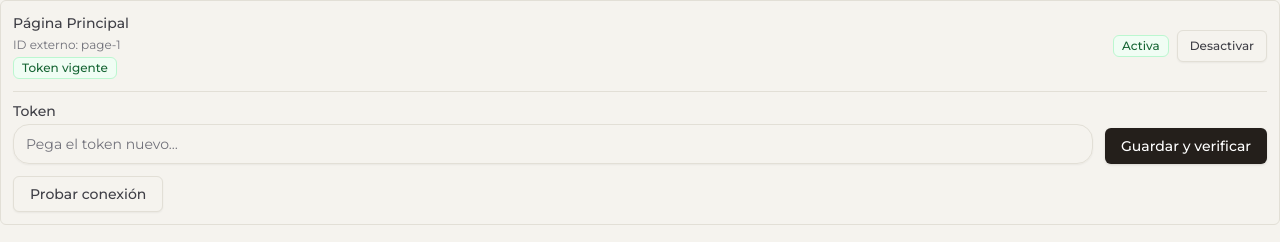
CuentasPublicitariasList — token por cuenta (Facebook/Instagram: adaptador Meta real conectado) › muestra el mensaje de fallo cuando la prueba de conexión no es exitosa
This screenshot has width=1280, height=242.
Click the button "Probar conexión": (88, 194) x1=13 y1=176 x2=163 y2=212
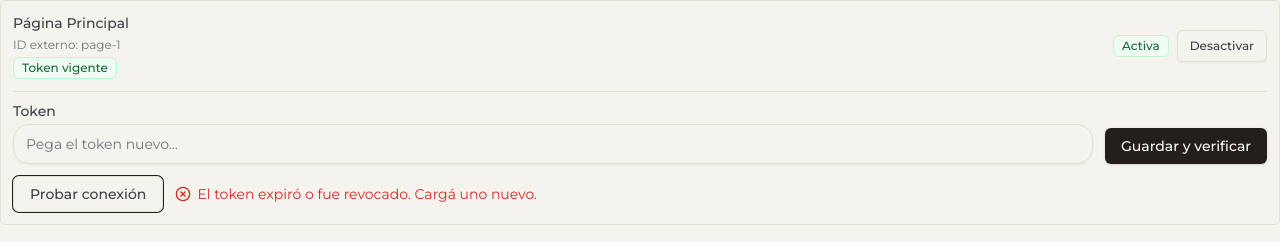
Result: the text "El token expiró o fue revocado. Cargá uno nuevo." is shown at x1=175 y1=184 x2=537 y2=204
